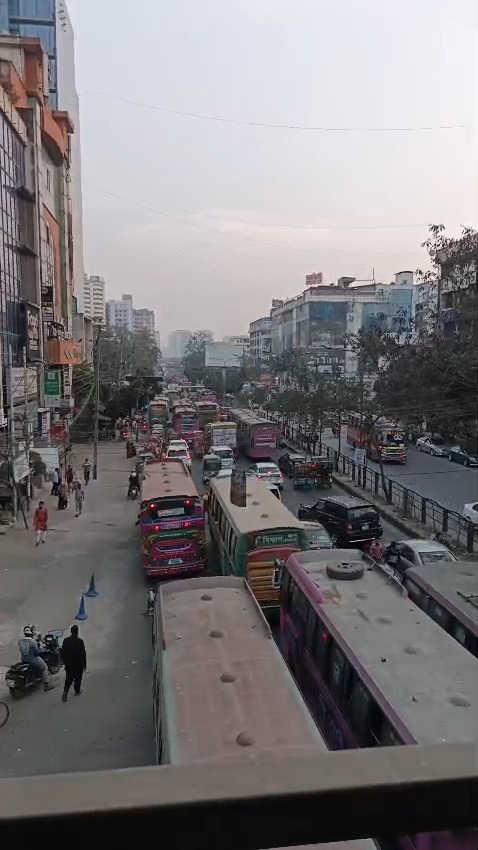Bikes: (15, 625, 61, 733), (120, 463, 144, 501), (334, 419, 345, 439)
Bus: (145, 562, 478, 807), (150, 447, 296, 586), (349, 409, 411, 459), (232, 405, 277, 451), (173, 395, 215, 433), (144, 399, 170, 422)
auto-ricksaw: (293, 460, 322, 489), (315, 458, 340, 491)
cng: (203, 453, 223, 482)
private car: (313, 487, 386, 536), (417, 434, 478, 477), (395, 530, 455, 562), (253, 453, 289, 488), (169, 437, 192, 469), (212, 443, 240, 467), (457, 495, 478, 524), (282, 448, 309, 463)
